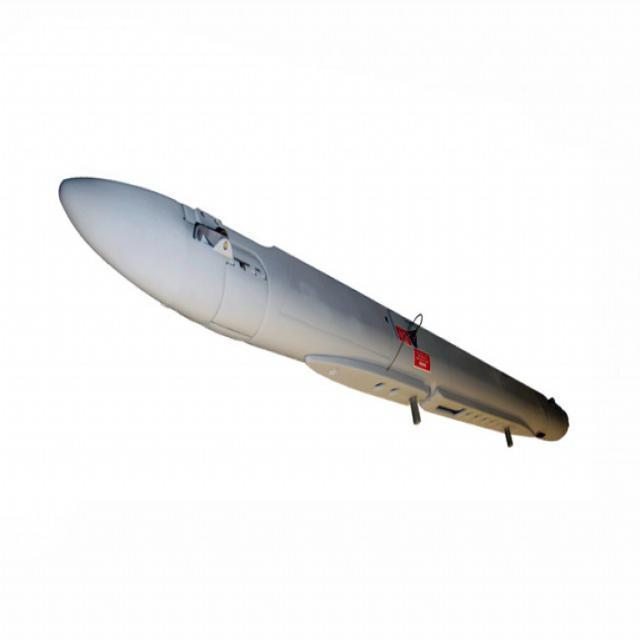missile: (58, 168, 570, 450)
